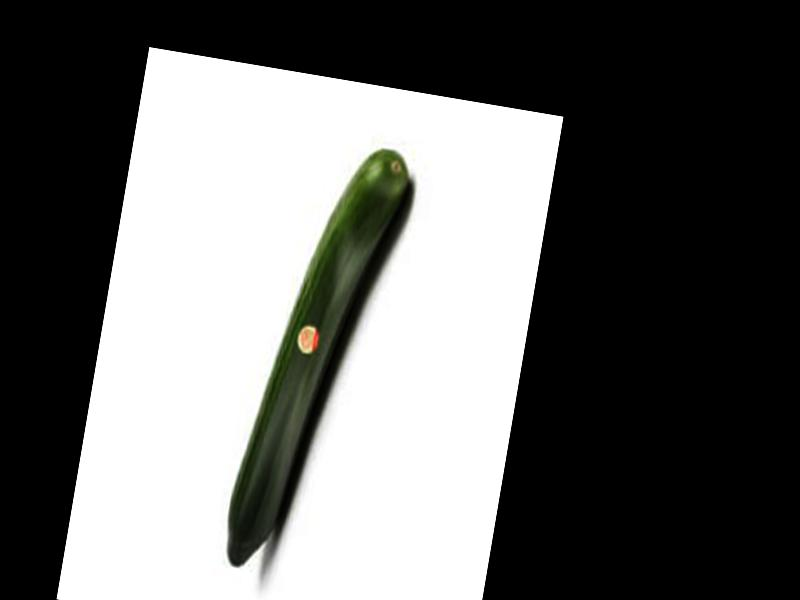Cucumber: (220, 130, 413, 584)
